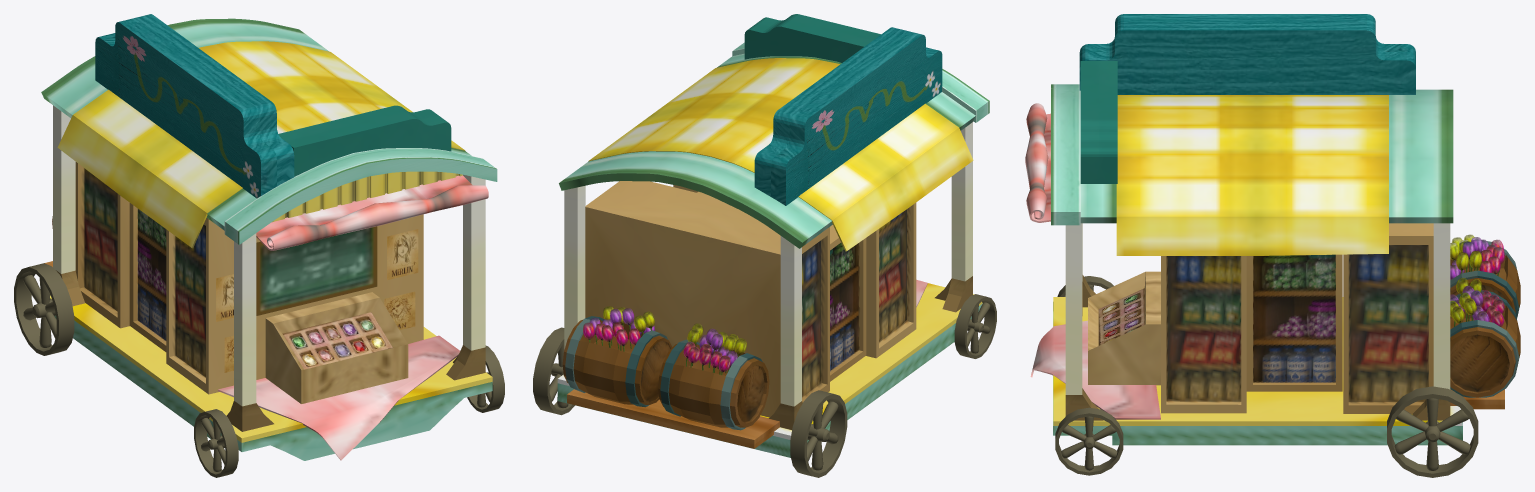
Rendered from item_cart.glb.
3 renders of one model, left to right at view 1: azimuth 30°, elevation 25°; view 2: azimuth 150°, elevation 25°; view 3: azimuth 270°, elevation 25°, orthographic. The views are drawn at different scales.
Parts seen in each view (by area): view 1: tarpaulin, Billboard, Plane.002, cupboard.007, pole, cupboard front.002, Cart_While, poster.004, Plane.004, front roof, cupboard.008, Plane.001 (+7 smaller); view 2: cupboard.008, tarpaulin, Billboard, Barrels.004, pole, front, Cart_While, Plane.002, cupboard.007, cupboard.009, Billboard front, Plane.003 (+4 smaller); view 3: tarpaulin, Billboard, cupboard.008, cupboard.007, Plane.002, cupboard.009, front, Barrels.004, Cart_While, cupboard front.002, pole, Billboard front (+7 smaller).
Boxes of the visible parts, x1,y1,x2,y2 form: tarpaulin: [57, 41, 465, 248]; Billboard: [95, 14, 294, 198]; Plane.002: [50, 295, 492, 460]; cupboard.007: [166, 214, 423, 394]; pole: [53, 105, 485, 431]; cupboard front.002: [265, 292, 408, 403]; Cart_While: [14, 263, 504, 477]; poster.004: [256, 226, 377, 315]; Plane.004: [218, 335, 460, 460]; front roof: [224, 148, 497, 244]; cupboard.008: [75, 162, 129, 328]; Plane.001: [256, 175, 488, 250]; cupboard.008: [585, 181, 829, 417]; tarpaulin: [588, 58, 973, 251]; Billboard: [754, 27, 942, 205]; Barrels.004: [562, 316, 769, 430]; pole: [564, 122, 972, 429]; front: [559, 53, 975, 248]; Cart_While: [533, 294, 996, 477]; Plane.002: [557, 283, 982, 457]; cupboard.007: [673, 185, 916, 358]; cupboard.009: [697, 191, 866, 381]; Billboard front: [744, 14, 880, 62]; Plane.003: [567, 389, 779, 448]; tarpaulin: [1116, 95, 1388, 255]; Billboard: [1079, 14, 1415, 94]; cupboard.008: [1343, 223, 1433, 413]; cupboard.007: [1161, 256, 1246, 413]; Plane.002: [1053, 297, 1462, 445]; cupboard.009: [1246, 254, 1342, 391]; front: [1080, 89, 1453, 223]; Barrels.004: [1450, 239, 1520, 397]; Cart_While: [1055, 276, 1478, 477]; cupboard front.002: [1088, 271, 1160, 385]; pole: [1065, 223, 1450, 420]; Billboard front: [1080, 61, 1117, 183].
Bounding box in the file's own units: 1.91 × 2.14 × 2.78.
Materials: 4 (4 with a texture image).
